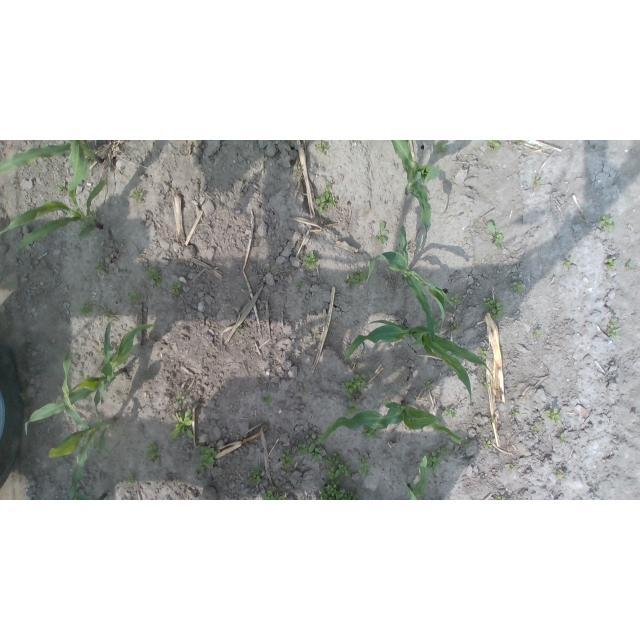Maize: (24, 319, 161, 433), (342, 320, 490, 407), (0, 140, 108, 248), (365, 228, 455, 357), (48, 345, 117, 500), (319, 401, 463, 446), (392, 141, 441, 248), (0, 140, 104, 164), (401, 454, 427, 500), (68, 489, 109, 500)
Weeds: (424, 443, 453, 478), (319, 480, 362, 501), (316, 181, 339, 213), (324, 452, 350, 480), (170, 409, 194, 439), (342, 374, 367, 401), (294, 444, 323, 464), (196, 445, 217, 471), (483, 296, 503, 321), (488, 221, 504, 252), (344, 269, 367, 289), (355, 456, 373, 478), (375, 220, 389, 244), (145, 440, 160, 462), (303, 251, 319, 271), (281, 449, 296, 470), (146, 267, 162, 286), (361, 424, 379, 440), (263, 488, 285, 501), (607, 318, 621, 338), (249, 466, 264, 484), (545, 407, 561, 423), (600, 216, 615, 233), (309, 434, 322, 453), (435, 140, 450, 156), (345, 403, 359, 418), (315, 140, 330, 154), (78, 303, 94, 316), (487, 140, 502, 153), (447, 294, 461, 307), (439, 408, 457, 418), (131, 191, 144, 203), (127, 292, 141, 303), (104, 309, 115, 322), (175, 391, 185, 405), (554, 469, 566, 480), (607, 258, 618, 270), (511, 282, 523, 293), (171, 283, 181, 295), (532, 175, 541, 188), (484, 438, 493, 450), (57, 182, 66, 194), (126, 473, 135, 485), (263, 394, 272, 406), (433, 317, 440, 332), (480, 348, 489, 359), (532, 423, 542, 432), (95, 262, 105, 271), (19, 392, 29, 401), (508, 464, 517, 473), (295, 282, 303, 292), (422, 381, 430, 390), (510, 410, 519, 418), (534, 330, 542, 339), (562, 259, 571, 267), (493, 495, 507, 500), (417, 493, 427, 500), (97, 347, 104, 357), (560, 433, 566, 444), (300, 386, 308, 394), (294, 165, 302, 173), (80, 222, 88, 230), (452, 324, 461, 330), (464, 437, 470, 446), (483, 383, 490, 390), (313, 332, 320, 339), (489, 417, 496, 423), (236, 327, 242, 334), (626, 263, 632, 270), (516, 140, 524, 145), (299, 496, 309, 500), (479, 364, 485, 369), (396, 247, 401, 253), (607, 274, 612, 280), (91, 209, 96, 215), (83, 376, 88, 381), (523, 455, 529, 459), (596, 486, 600, 491), (483, 425, 488, 429), (46, 157, 51, 161), (449, 331, 452, 335), (373, 463, 376, 467)
